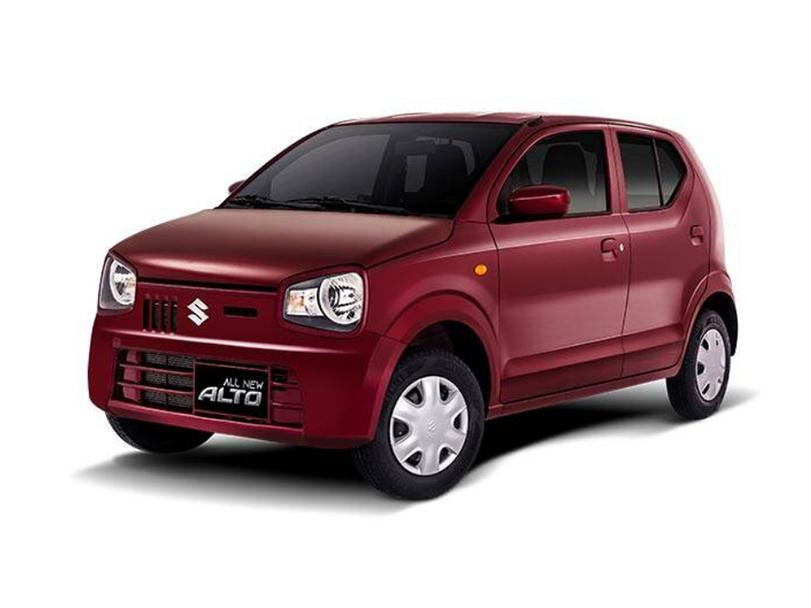windshield: (212, 118, 541, 233)
